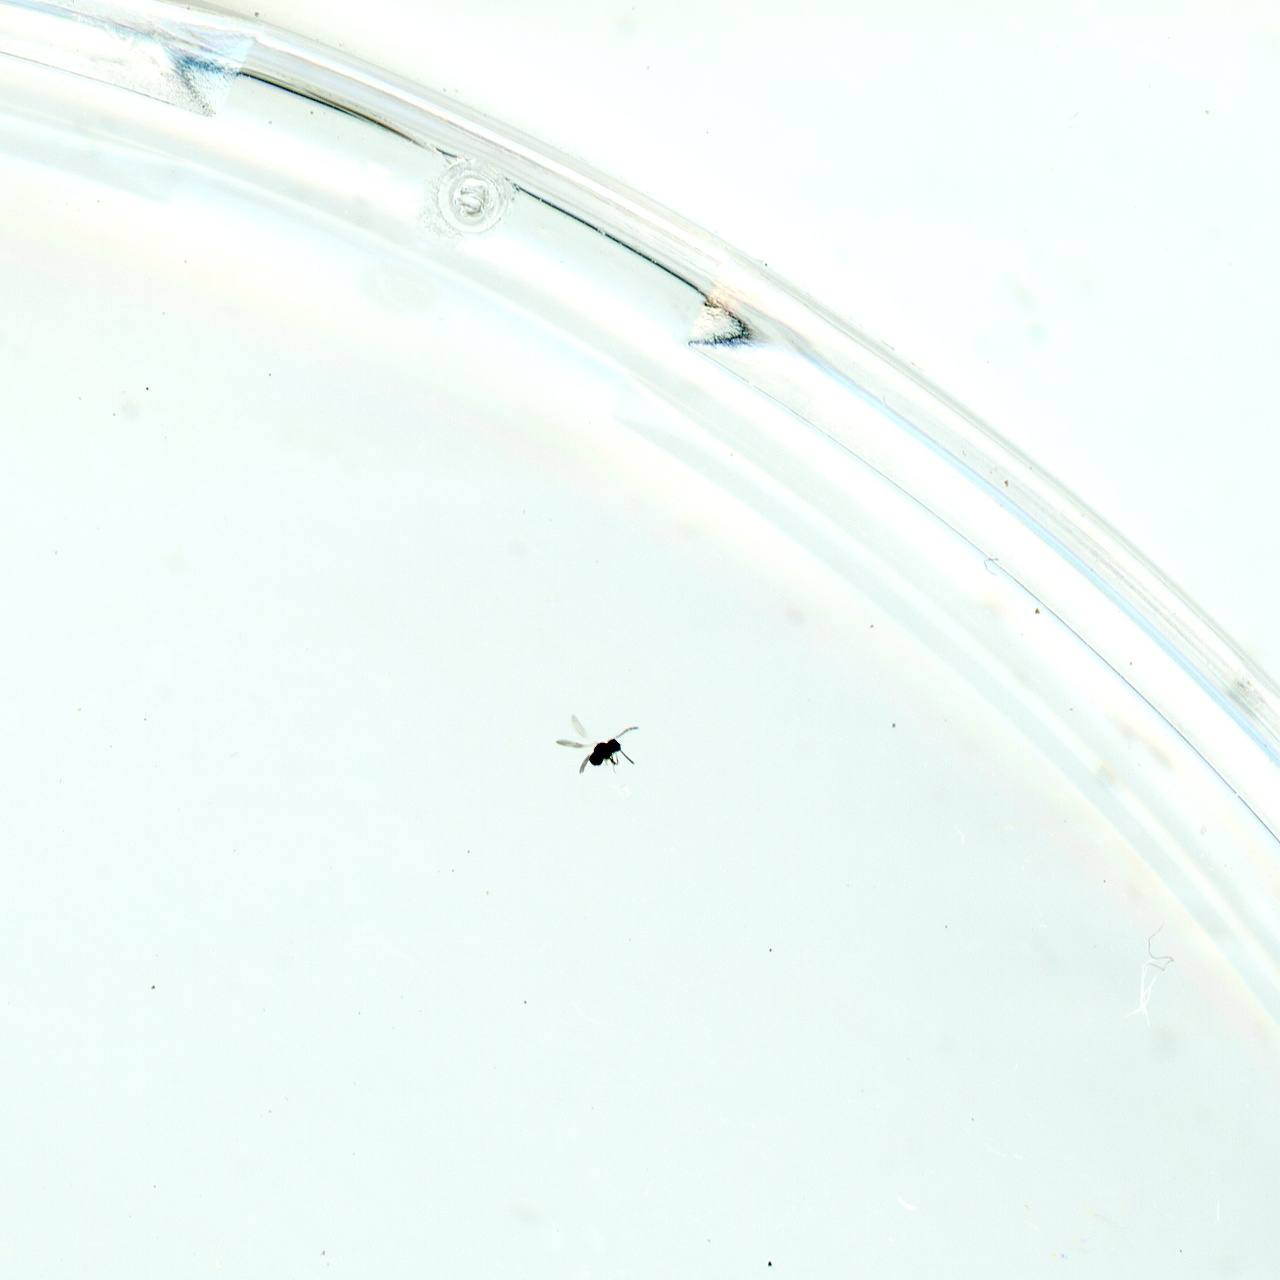arthropod: (551, 712, 640, 779)
